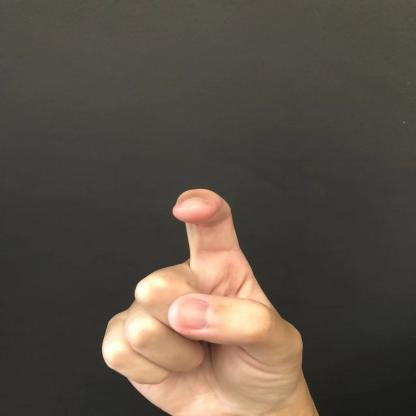finger_point: (101, 159, 318, 299)
